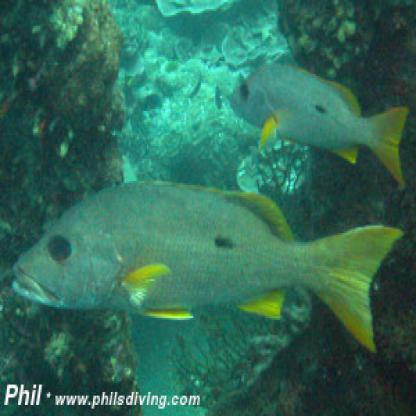snapper: (7, 175, 405, 356), (226, 55, 410, 192)
